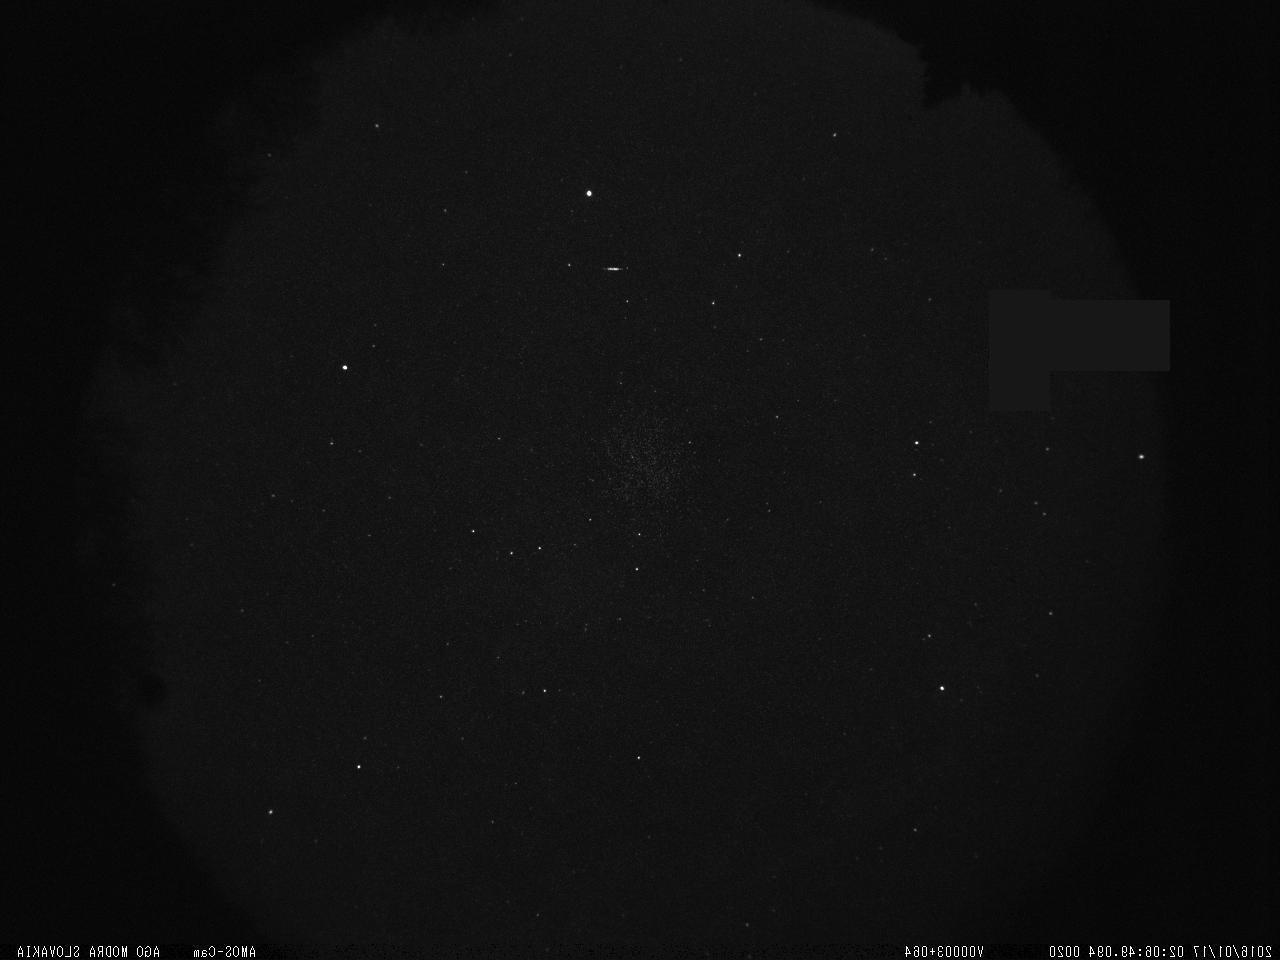meteor: (594, 257, 635, 280)
